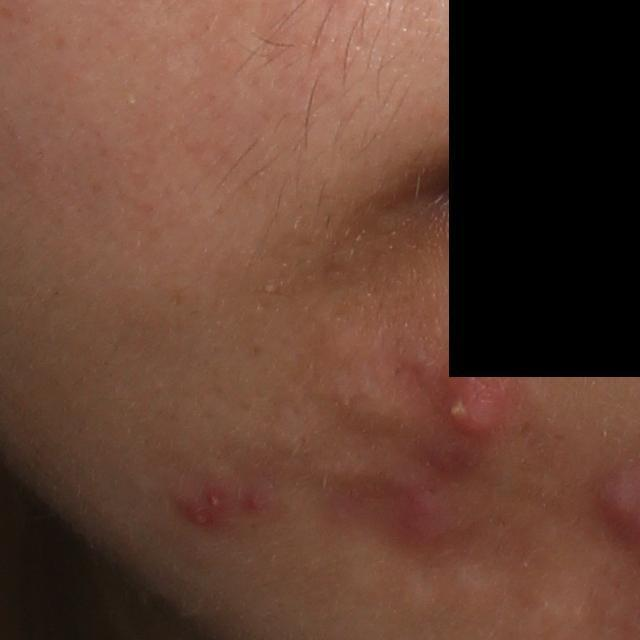papule: (391, 483, 463, 546), (179, 502, 220, 531)
pustule: (434, 375, 508, 444)
